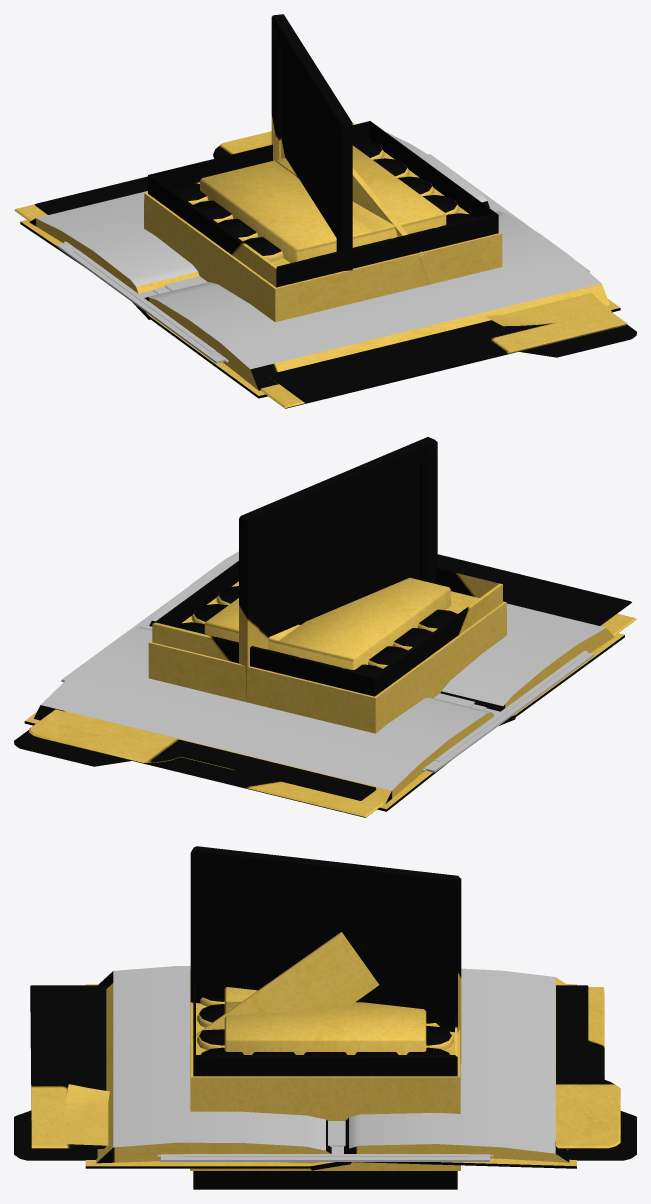
The model's file is GameObjects_Office.FBX.
3 views of the same model, one above another, from view 1: azimuth 30°, elevation 25°; view 2: azimuth 150°, elevation 25°; view 3: azimuth 270°, elevation 25° (orthographic). The views are drawn at different scales.
Visible parts, largest first — view 1: o_GPC_EmployeeManual, o_AfricaFolder, o_SampleBoxCover, o_PictureFrame_missing_PICTURE, o_SmallBox, o_SampleBox, o_ExpenseFolder, o_SamplePillGroup, o_CompanyEmailmemo, o_BlankExpenseForm03; view 2: o_GPC_EmployeeManual, o_PictureFrame_missing_PICTURE, o_SampleBoxCover, o_AfricaFolder, o_SampleBox, o_SmallBox, o_ExpenseFolder, o_SamplePillGroup, o_CompanyEmailmemo, o_BlankExpenseForm03; view 3: o_GPC_EmployeeManual, o_PictureFrame_missing_PICTURE, o_AfricaFolder, o_SampleBoxCover, o_SampleBox, o_SmallBox, o_ExpenseFolder, o_SamplePillGroup, o_CompanyEmailmemo, o_BlankExpenseForm03.
Boxes of the visible parts, box(x1,y1,x2,y2) form: o_GPC_EmployeeManual: box(20, 132, 620, 398); o_AfricaFolder: box(34, 122, 627, 403); o_SampleBoxCover: box(144, 152, 502, 322); o_PictureFrame_missing_PICTURE: box(271, 14, 433, 284); o_SmallBox: box(200, 145, 446, 262); o_SampleBox: box(148, 121, 498, 287); o_ExpenseFolder: box(14, 204, 636, 408); o_SamplePillGroup: box(168, 140, 477, 262); o_CompanyEmailmemo: box(56, 154, 589, 363); o_BlankExpenseForm03: box(73, 202, 501, 352); o_GPC_EmployeeManual: box(24, 551, 624, 811); o_PictureFrame_missing_PICTURE: box(239, 437, 437, 702); o_SampleBoxCover: box(148, 581, 506, 733); o_AfricaFolder: box(29, 554, 631, 800); o_SampleBox: box(152, 561, 502, 696); o_SmallBox: box(204, 577, 450, 669); o_ExpenseFolder: box(14, 613, 636, 817); o_SamplePillGroup: box(173, 582, 457, 675); o_CompanyEmailmemo: box(61, 589, 594, 772); o_BlankExpenseForm03: box(141, 617, 577, 761); o_GPC_EmployeeManual: box(85, 966, 576, 1170); o_PictureFrame_missing_PICTURE: box(190, 846, 461, 1076); o_AfricaFolder: box(30, 985, 620, 1148); o_SampleBoxCover: box(190, 970, 460, 1170); o_SampleBox: box(193, 983, 457, 1189); o_SmallBox: box(224, 987, 426, 1054); o_ExpenseFolder: box(14, 987, 636, 1160); o_SamplePillGroup: box(197, 996, 453, 1054); o_CompanyEmailmemo: box(161, 1154, 489, 1161); o_BlankExpenseForm03: box(183, 1146, 467, 1156).
Size of the model in its own units: 0.4292 by 0.2827 by 0.6021.
